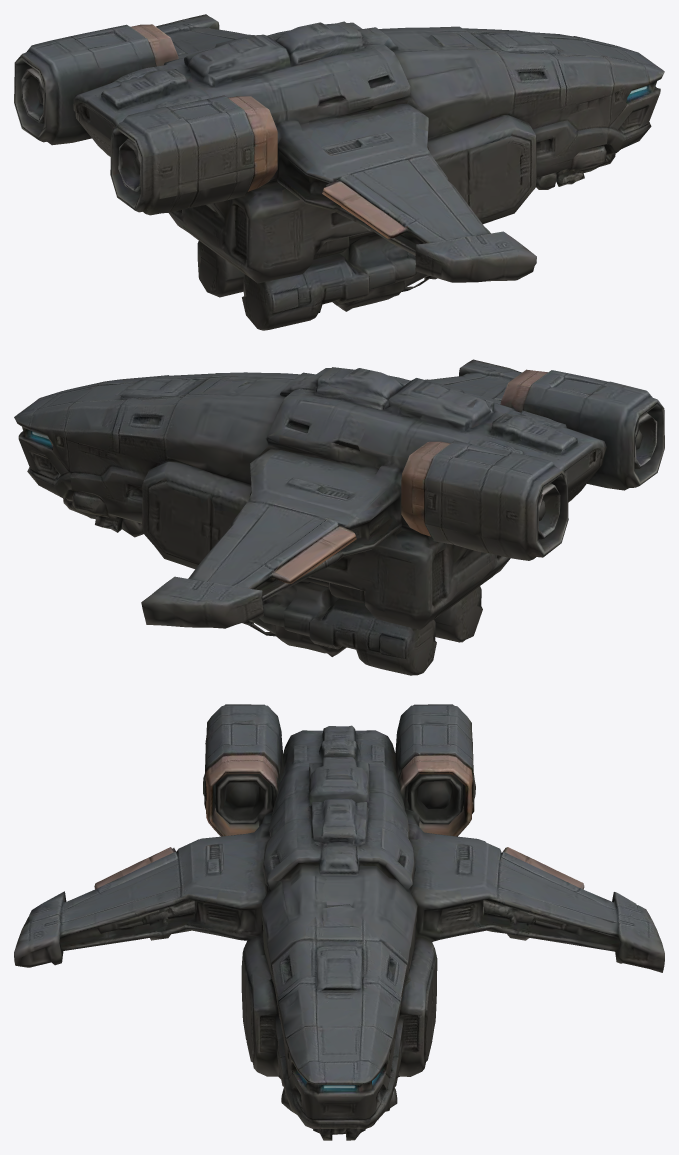
Rendered from transport_opt.glb.
The picture shows the model from 3 angles, top to bottom: view 1: azimuth 30°, elevation 25°; view 2: azimuth 150°, elevation 25°; view 3: azimuth 270°, elevation 25°; orthographic projection.
Parts seen in each view (by area): view 1: tripo_node_c36751ed-9696-4e56-8d22-d944899b8896; view 2: tripo_node_c36751ed-9696-4e56-8d22-d944899b8896; view 3: tripo_node_c36751ed-9696-4e56-8d22-d944899b8896.
Boxes of the visible parts, <box> form: tripo_node_c36751ed-9696-4e56-8d22-d944899b8896: <box>14,14,664,330</box>; tripo_node_c36751ed-9696-4e56-8d22-d944899b8896: <box>14,359,664,675</box>; tripo_node_c36751ed-9696-4e56-8d22-d944899b8896: <box>14,704,664,1140</box>.
Bounding box in the file's own units: 0.9776 × 0.4562 × 0.9773.
Materials: 1 (1 with a texture image).
